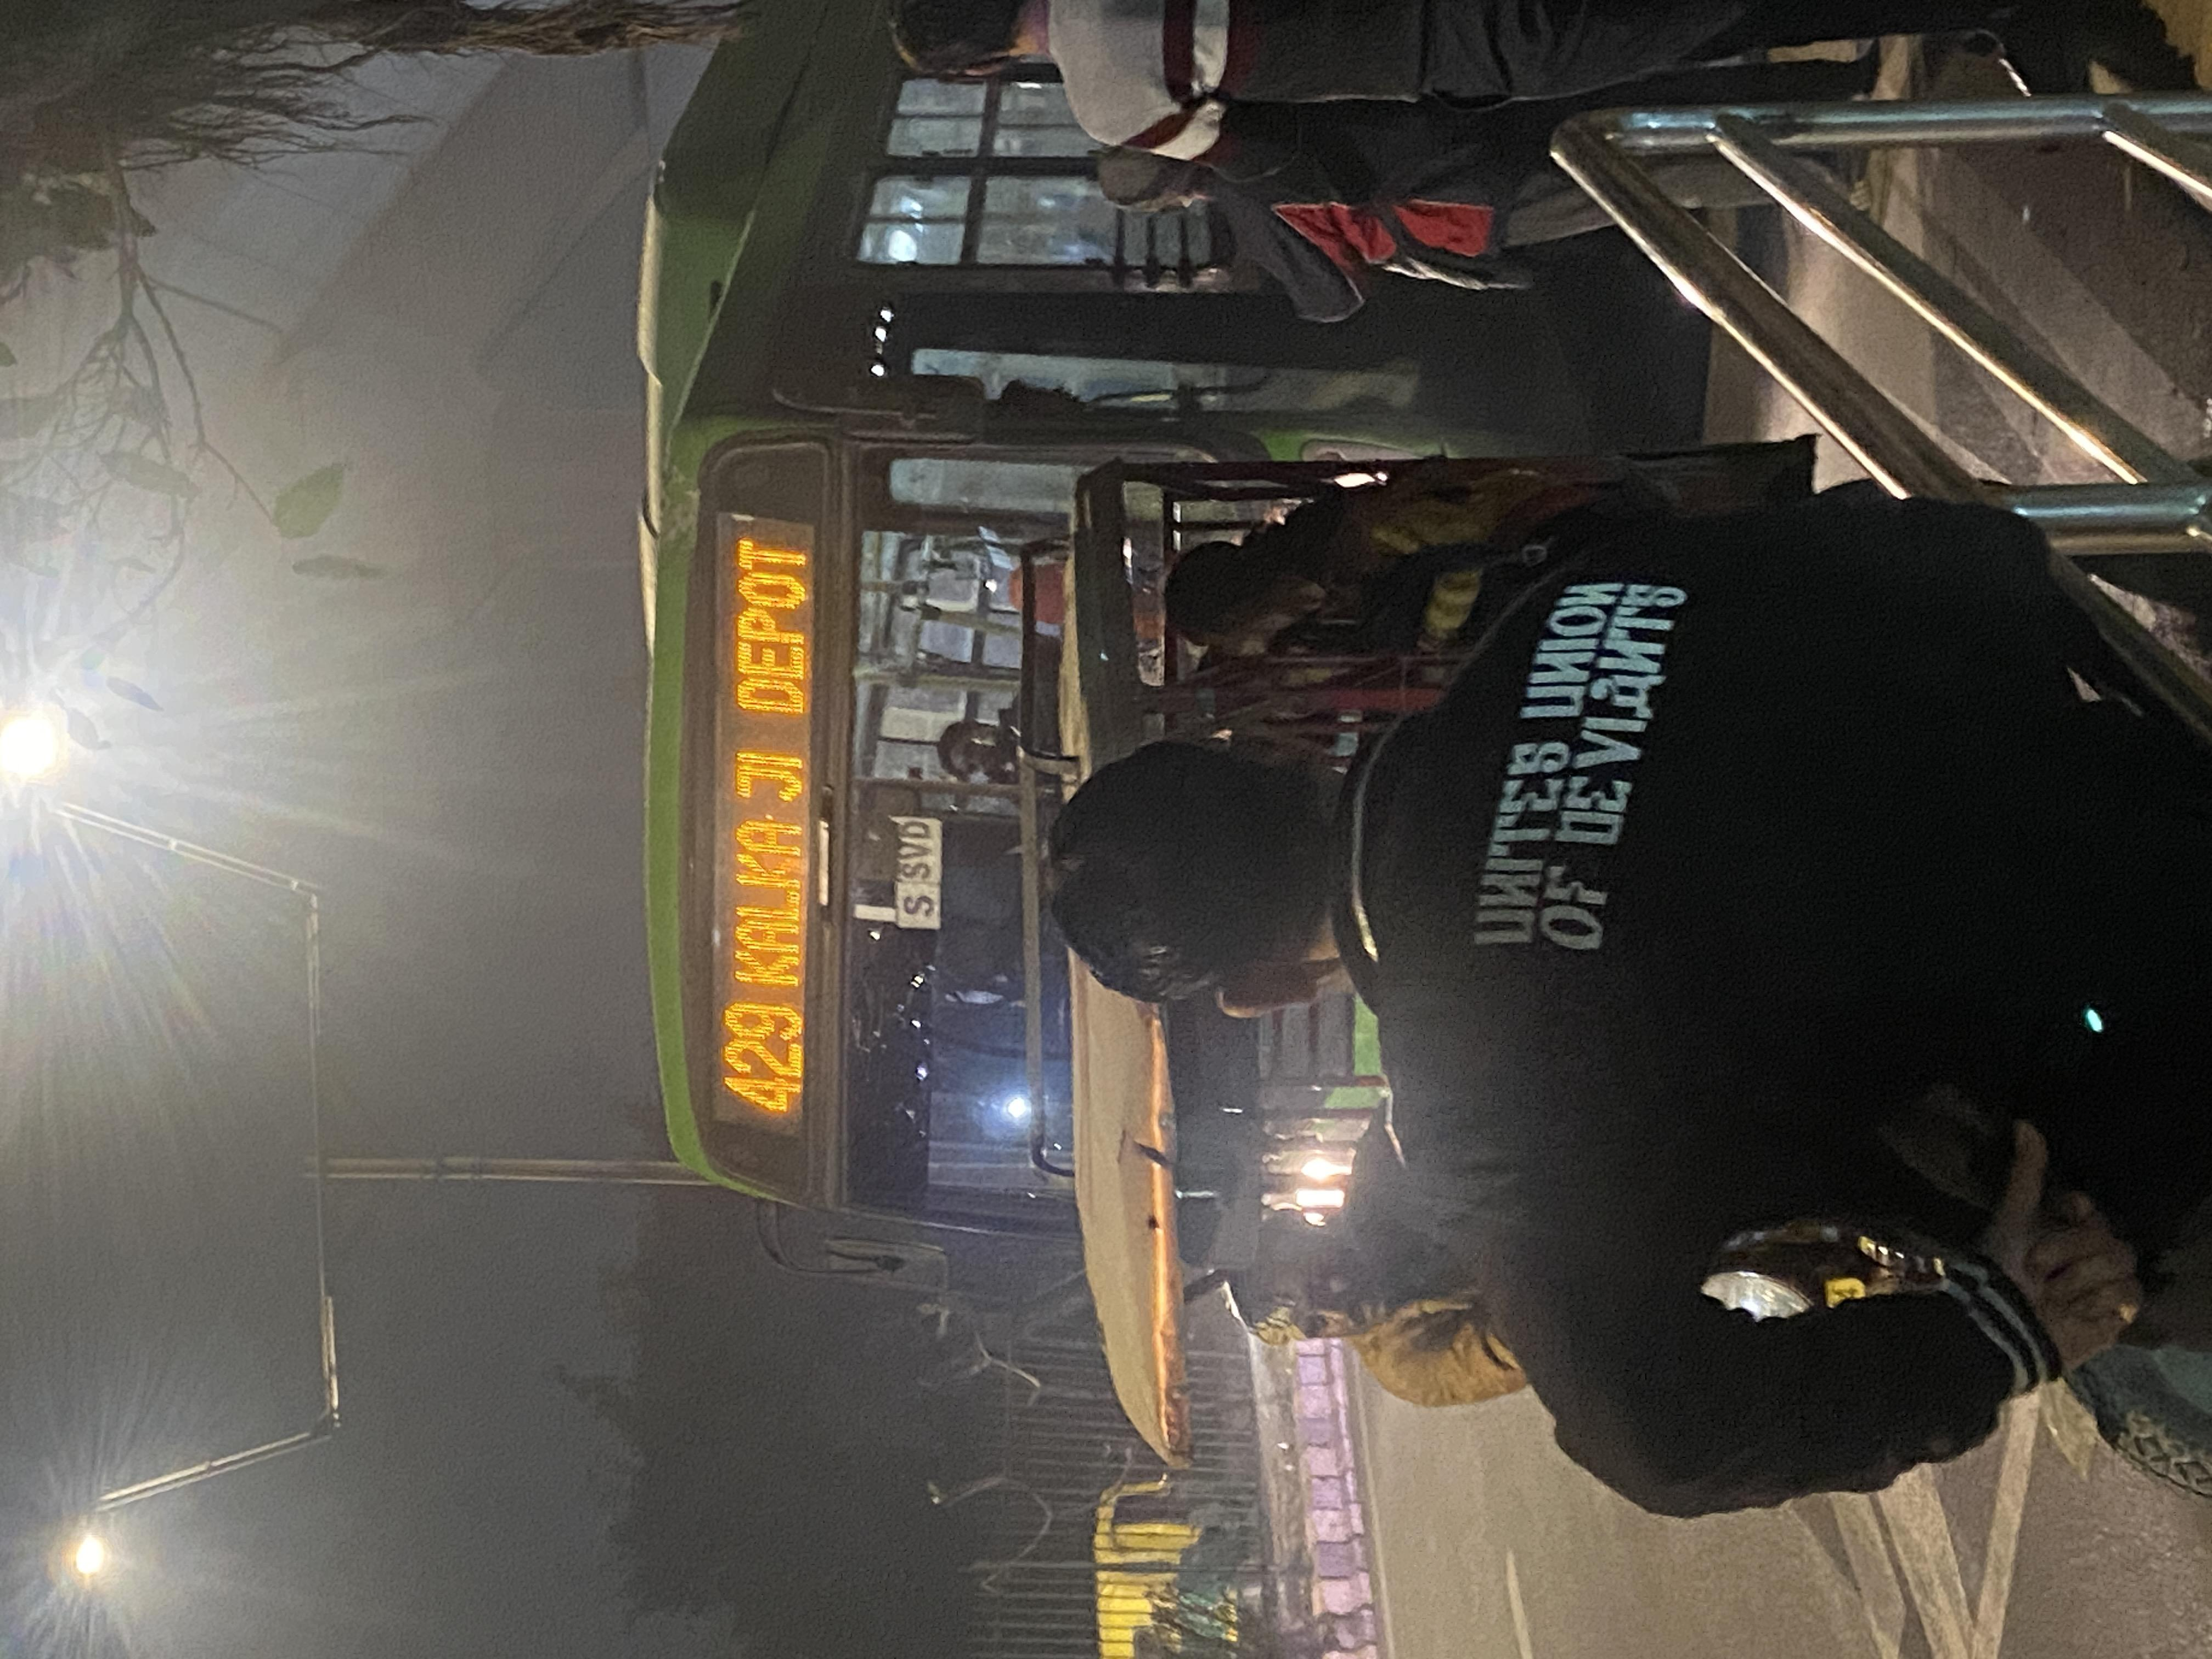Bus: (625, 319, 1662, 1317)
Display Board: (691, 472, 845, 1180)
